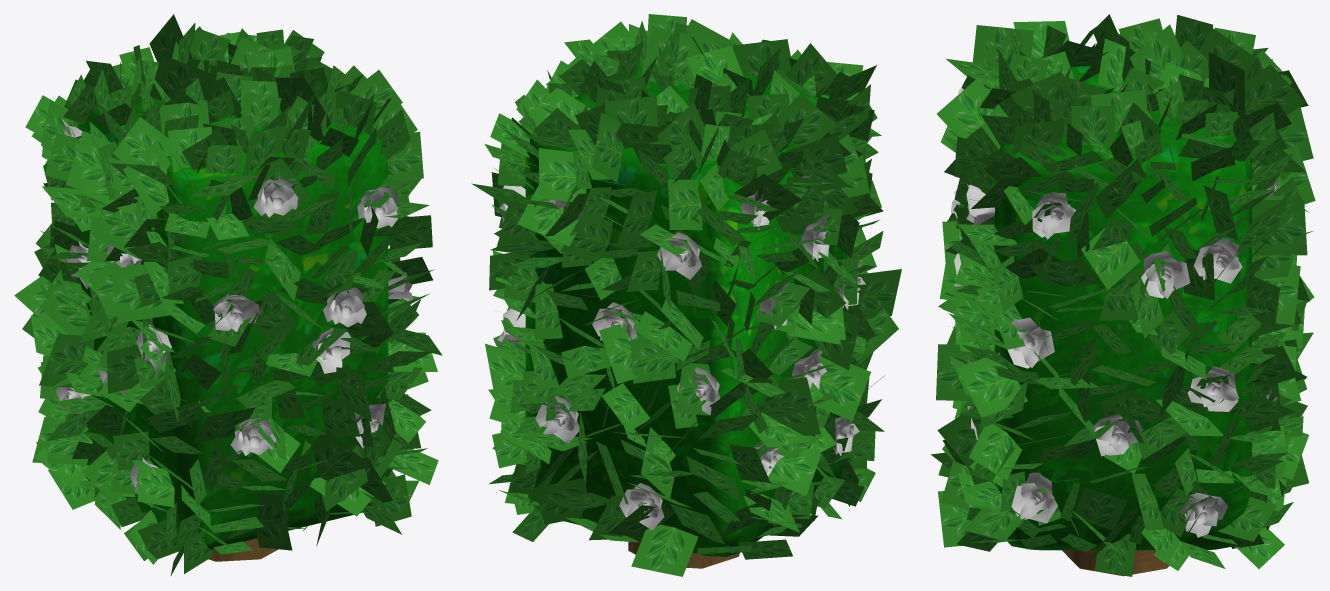
The model's file is sb_obj_outdoor012_Hedge03a.fbx.
3 renders of one model, left to right at view 1: azimuth 30°, elevation 25°; view 2: azimuth 150°, elevation 25°; view 3: azimuth 270°, elevation 25°, orthographic. The views are drawn at different scales.
Visible parts, largest first — view 1: leaf_plus_a, sb_obj_outdoor012_Hedge01a, 立方体.012, 立方体.002, 立方体.013, 立方体.009, 立方体.011, 立方体.005, rose_base.004; view 2: leaf_plus_a, sb_obj_outdoor012_Hedge01a, rose_base.009, rose_base.014, rose_base.017, rose_base.011, rose_base.013, rose_base.005, rose_base.001, rose_base.007; view 3: leaf_plus_a, sb_obj_outdoor012_Hedge01a, rose_base.023, rose_base.020, rose_base.018, rose_base.027, rose_base.024, rose_base.019, rose_base.026, rose_base.022, 立方体.011.
Part boxes in pixels (x1,y1,x2,y2): leaf_plus_a: [14, 14, 442, 575]; sb_obj_outdoor012_Hedge01a: [75, 69, 388, 561]; 立方体.012: [253, 178, 298, 217]; 立方体.002: [323, 287, 366, 327]; 立方体.013: [213, 294, 261, 332]; 立方体.009: [231, 417, 276, 455]; 立方体.011: [357, 186, 399, 228]; 立方体.005: [312, 328, 351, 373]; rose_base.004: [136, 324, 171, 371]; leaf_plus_a: [471, 14, 901, 576]; sb_obj_outdoor012_Hedge01a: [525, 61, 847, 568]; rose_base.009: [657, 232, 701, 279]; rose_base.014: [619, 483, 664, 530]; rose_base.017: [535, 396, 579, 442]; rose_base.011: [592, 302, 636, 340]; rose_base.013: [677, 367, 720, 414]; rose_base.005: [792, 347, 826, 389]; rose_base.001: [801, 213, 829, 261]; rose_base.007: [833, 416, 859, 456]; leaf_plus_a: [930, 14, 1315, 576]; sb_obj_outdoor012_Hedge01a: [994, 66, 1251, 576]; rose_base.023: [1011, 472, 1057, 523]; rose_base.020: [1007, 317, 1054, 368]; rose_base.018: [1141, 251, 1190, 298]; rose_base.027: [1187, 366, 1239, 411]; rose_base.024: [1032, 192, 1076, 239]; rose_base.019: [1194, 237, 1242, 283]; rose_base.026: [1179, 492, 1227, 537]; rose_base.022: [1092, 414, 1143, 456]; 立方体.011: [966, 184, 995, 227].
Size of the model in its own units: 1.51 by 2.15 by 1.5.
